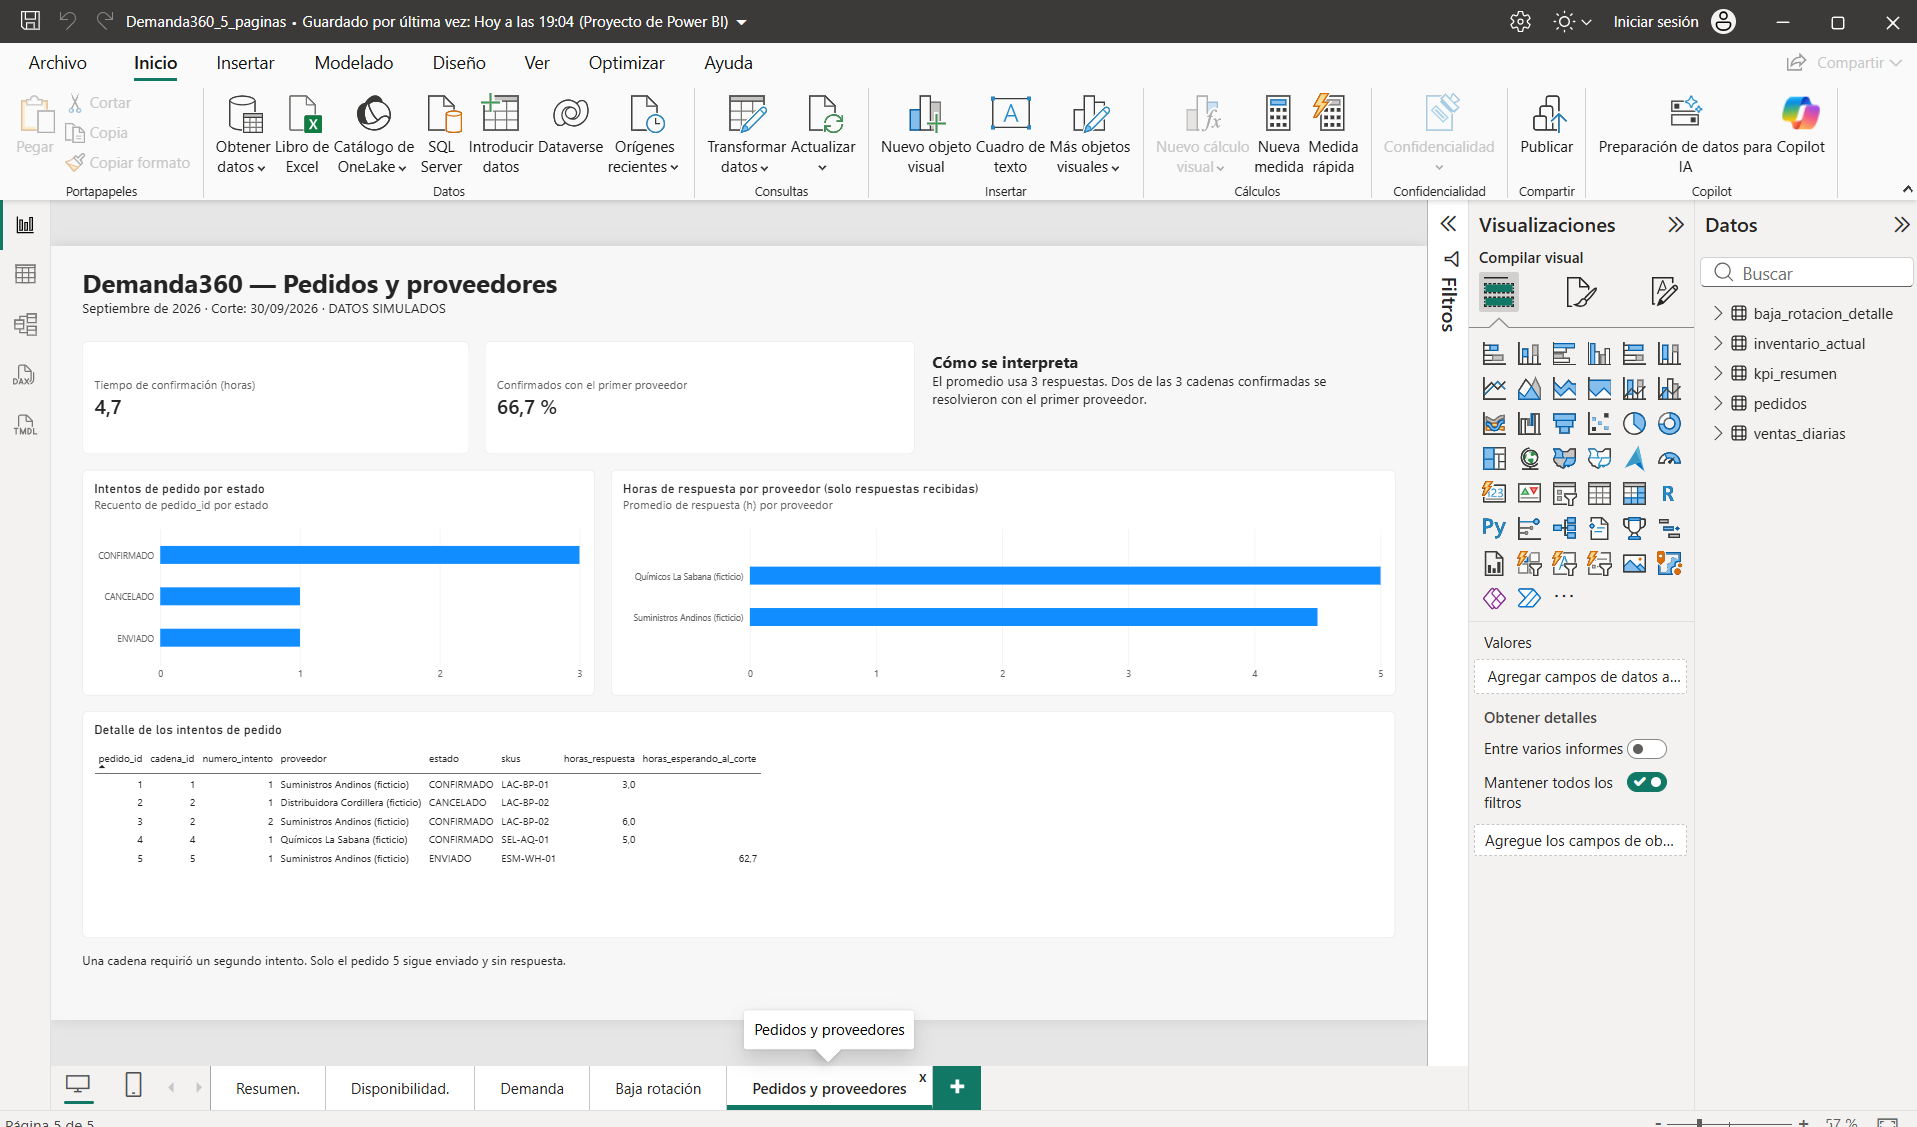

Layout of this report page (visuals, bound fields, positions):
{"tool":"powerbi","page":{"name":"Pedidos y proveedores","canvas":[1920,1080],"ordinal":4},"visuals":[{"type":"textbox","box":[44,26,1832,92],"z":0},{"type":"cardVisual","fields":{"Data":["kpi_resumen.Tiempo de confirmación (horas)"]},"box":[44,132,540,158],"z":1000},{"type":"cardVisual","fields":{"Data":["kpi_resumen.Confirmados con el primer proveedor"]},"box":[606,132,600,158],"z":2000},{"type":"textbox","box":[1230,144,645,140],"z":3000},{"type":"clusteredBarChart","title":"Intentos de pedido por estado","fields":{"Category":["pedidos.estado"],"Y":["CountNonNull(pedidos.pedido_id)"]},"box":[44,312,715,315],"z":4000},{"type":"clusteredBarChart","title":"Horas de respuesta por proveedor (solo respuestas recibidas)","fields":{"Category":["pedidos.proveedor"],"Y":["pedidos.Promedio de respuesta (h)"]},"box":[781,312,1095,315],"z":5000},{"type":"tableEx","title":"Detalle de los intentos de pedido","fields":{"Values":["pedidos.pedido_id","pedidos.cadena_id","pedidos.numero_intento","pedidos.proveedor","pedidos.estado","pedidos.skus","pedidos.horas_respuesta","pedidos.horas_esperando_al_corte"]},"box":[44,649,1832,317],"z":6000},{"type":"textbox","box":[44,986,1832,55],"z":7000}]}

Visuals, with their boxes on the page's 1920x1080 design canvas (x1, y1, x2, y2). These are canvas units, not pixel positions in the 1917x1127 screenshot, which may show the page scaled, cropped or inside an application window:
textbox: rect(44, 26, 1876, 118)
cardVisual - kpi_resumen.Tiempo de confirmación (horas): rect(44, 132, 584, 290)
cardVisual - kpi_resumen.Confirmados con el primer proveedor: rect(606, 132, 1206, 290)
textbox: rect(1230, 144, 1875, 284)
"Intentos de pedido por estado" clusteredBarChart: rect(44, 312, 759, 627)
"Horas de respuesta por proveedor (solo respuestas recibidas)" clusteredBarChart: rect(781, 312, 1876, 627)
"Detalle de los intentos de pedido" tableEx: rect(44, 649, 1876, 966)
textbox: rect(44, 986, 1876, 1041)
